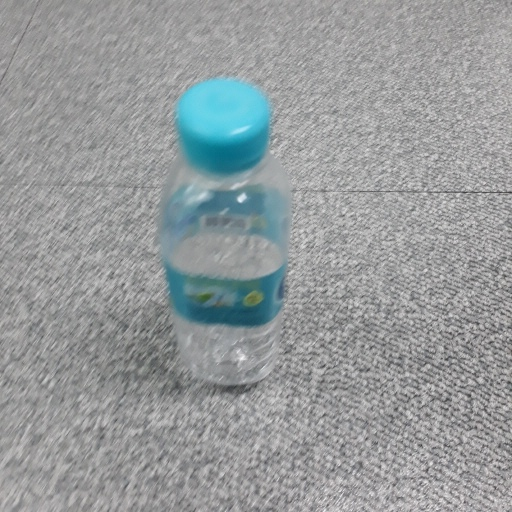Plastic_0: (159, 77, 292, 395)
